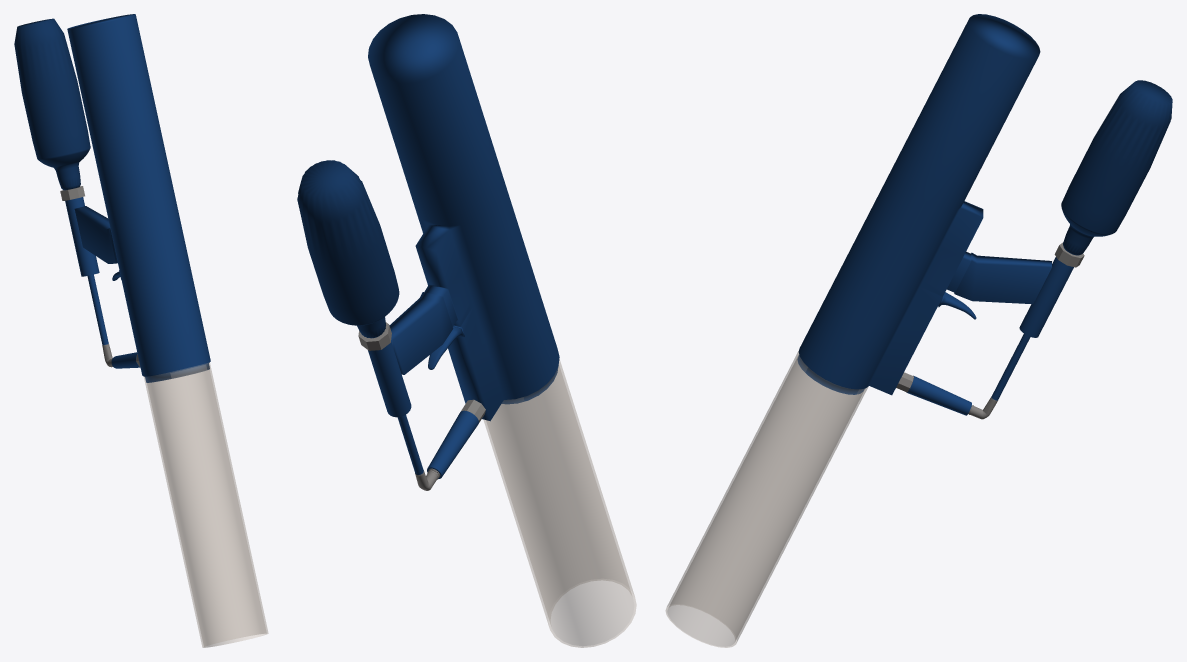
Rendered from tshirtGunCombined5.fbx.
3 views of the same model, side by side, from view 1: azimuth 30°, elevation 25°; view 2: azimuth 150°, elevation 25°; view 3: azimuth 270°, elevation 25° (orthographic). The views are drawn at different scales.
Parts seen in each view (by area): view 1: pPipe4; view 2: pPipe4; view 3: pPipe4.
Part boxes in pixels (bbox=[...]): pPipe4: bbox=[14, 14, 268, 647]; pPipe4: bbox=[297, 14, 636, 647]; pPipe4: bbox=[665, 14, 1172, 647].
Size of the model in its own units: 11.01 by 94.78 by 70.3.
